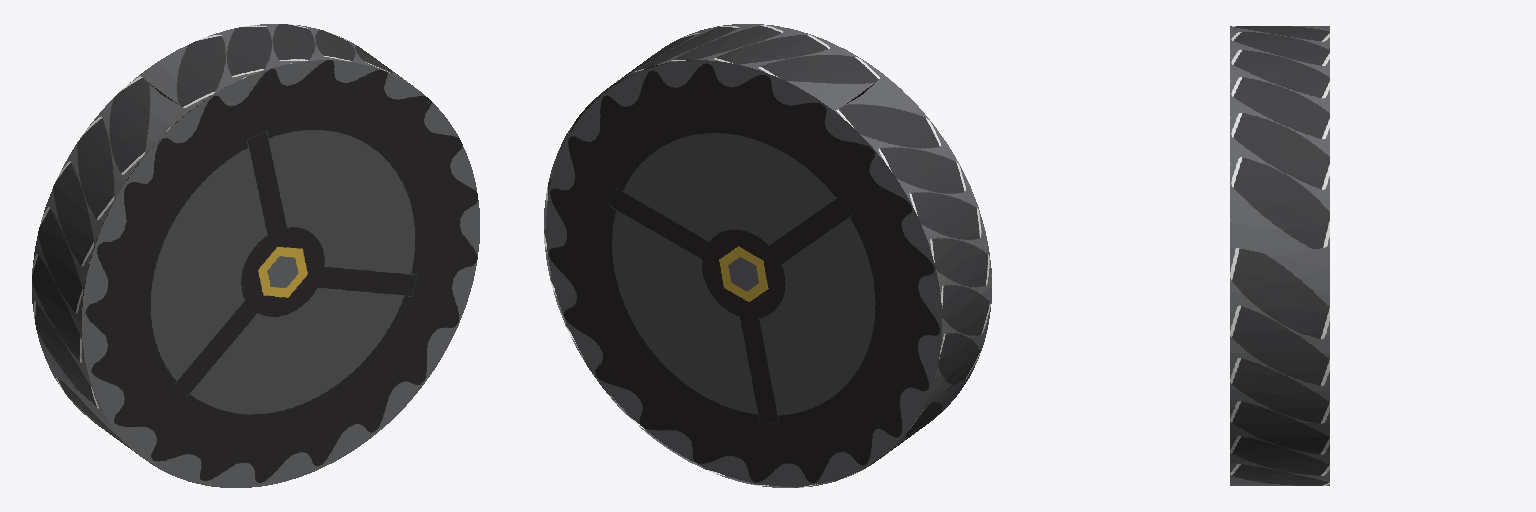
The picture shows the model from 3 angles: view 1: azimuth 30°, elevation 25°; view 2: azimuth 150°, elevation 25°; view 3: azimuth 270°, elevation 25°; orthographic projection.
Parts seen in each view (by area): view 1: Body1; view 2: Body1; view 3: Body1.
Part boxes in pixels (bbox=[...]): Body1: bbox=[32, 24, 479, 487]; Body1: bbox=[544, 24, 991, 487]; Body1: bbox=[1230, 26, 1329, 485].
Bounding box in the file's own units: 0.1016 × 0.1016 × 0.022.
1 materials, 1 textured.